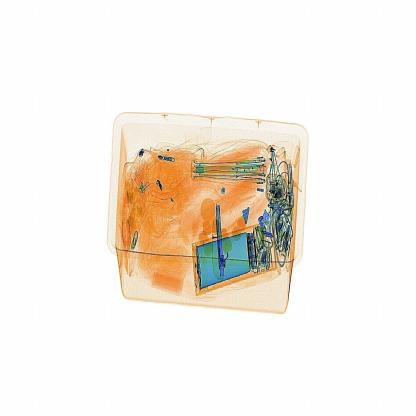pliers: (214, 202, 228, 274)
